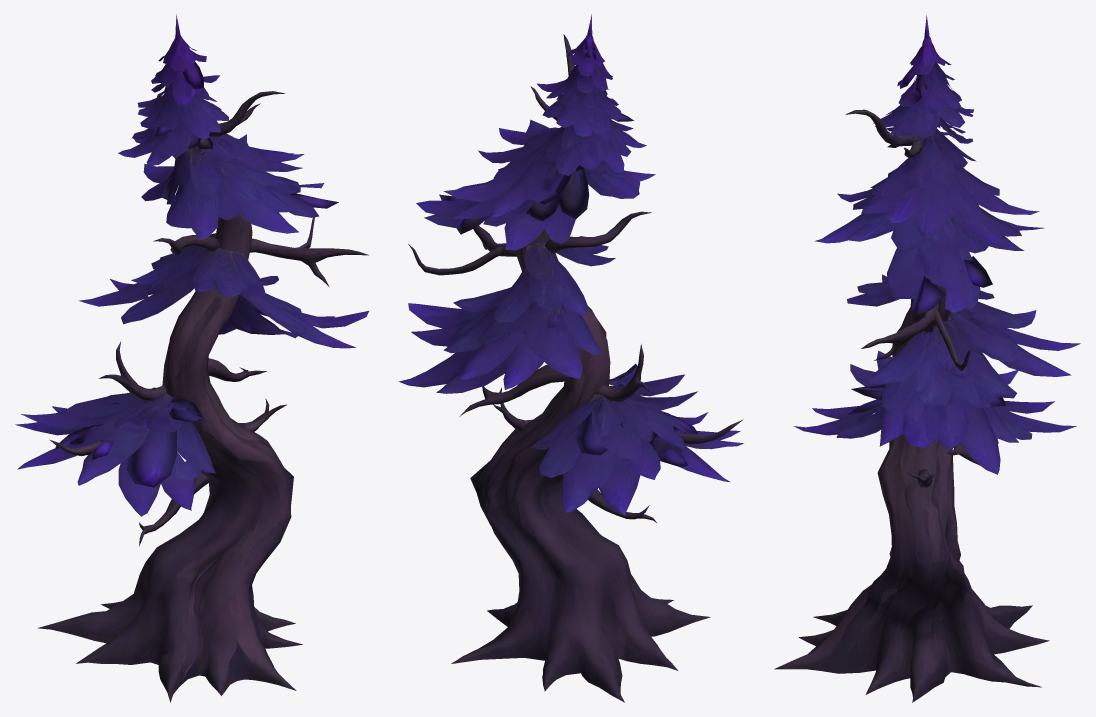
File: Twisted_Indigo_Tree.glb
3 views of the same model, side by side, from view 1: azimuth 30°, elevation 25°; view 2: azimuth 150°, elevation 25°; view 3: azimuth 270°, elevation 25° (orthographic).
Visible parts, largest first — view 1: Twisted_Indigo_Tree; view 2: Twisted_Indigo_Tree; view 3: Twisted_Indigo_Tree.
Boxes of the visible parts, x1,y1,x2,y2 form: Twisted_Indigo_Tree: (15, 14, 368, 702); Twisted_Indigo_Tree: (399, 14, 743, 702); Twisted_Indigo_Tree: (774, 15, 1080, 702).
Bounding box in the file's own units: 0.5605 × 1 × 0.4405.
1 material, 1 textured.
